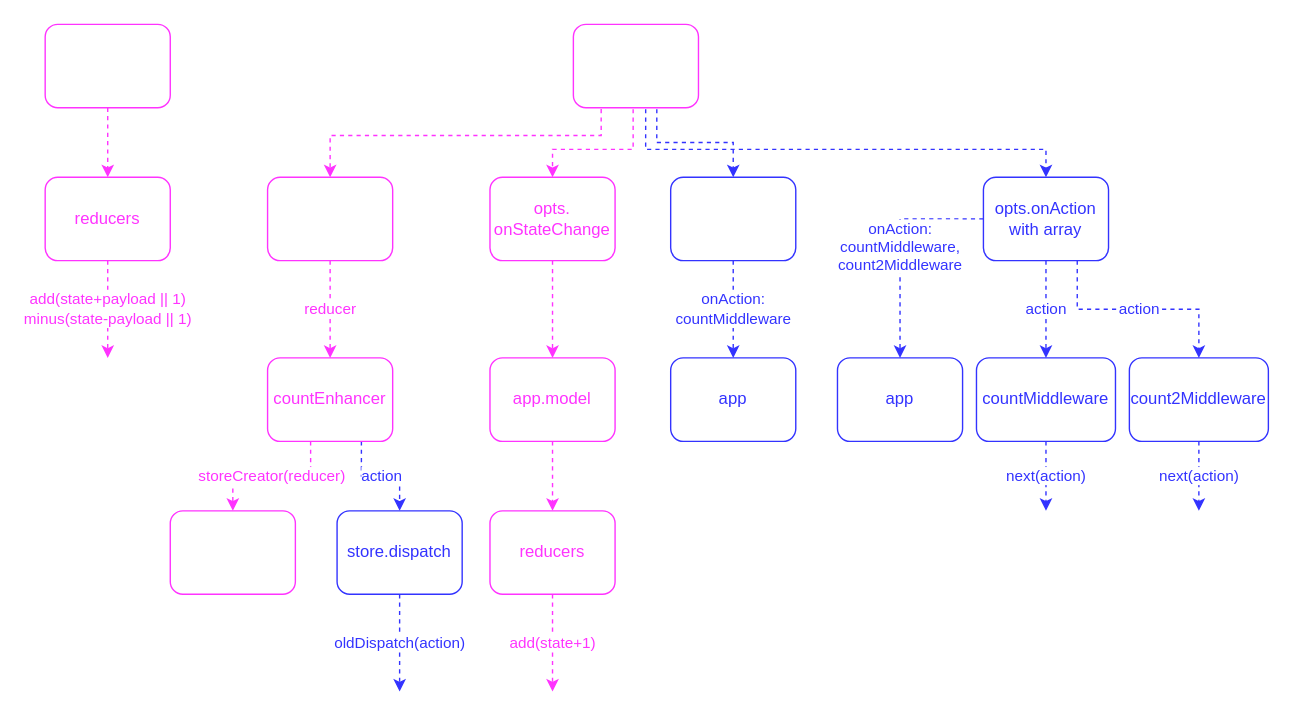
This 1293x727 diagram has some shape labels left out. Here are the shapes that lost their labels. From the top down, the box of each, then its label:
(44, 23, 170, 108): countModel
(572, 23, 698, 108): describe
(266, 176, 393, 261): opts. extraEnhancers
(669, 176, 796, 261): opts. onAction
(169, 509, 295, 594): store
